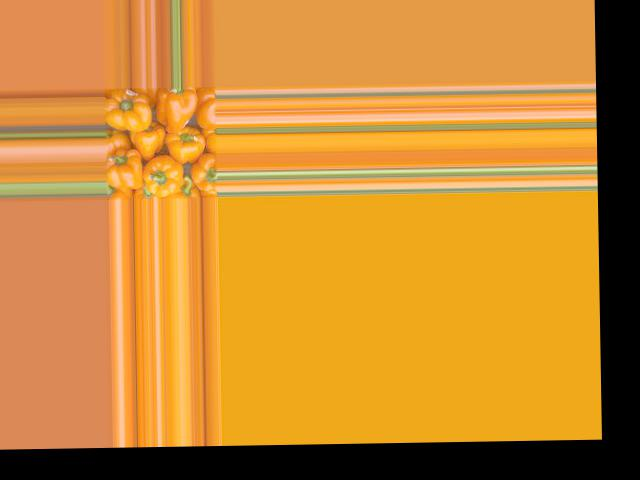bell_pepper: (196, 85, 215, 130)
